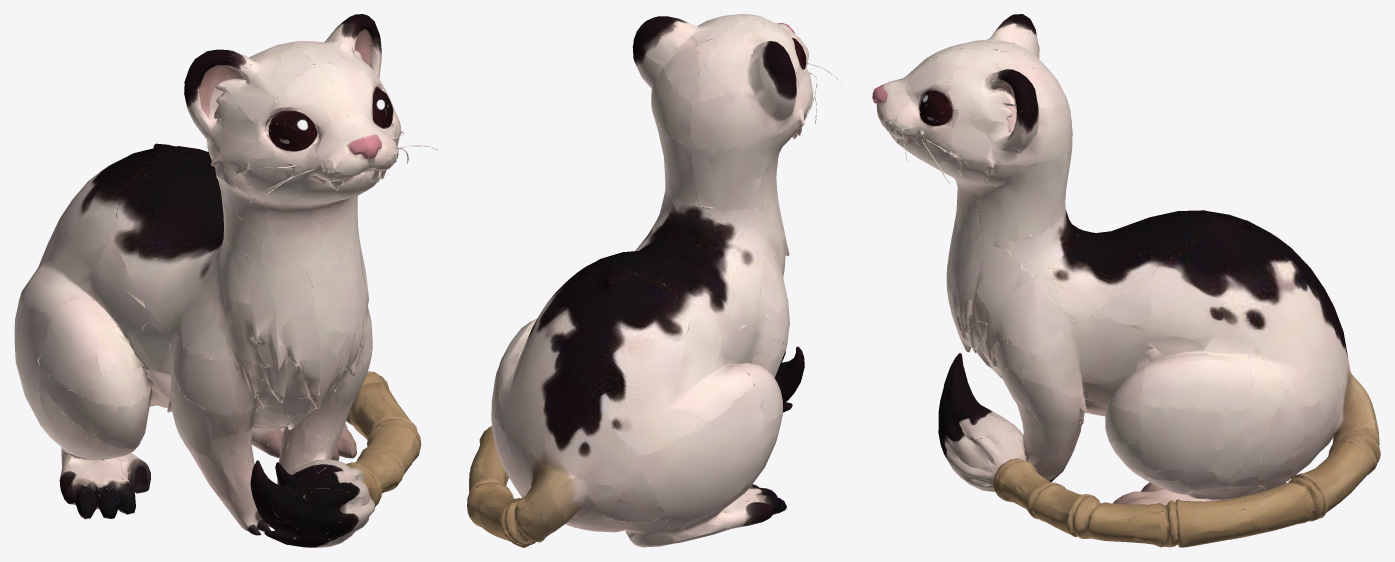
The picture shows the model from 3 angles, left to right: view 1: azimuth 30°, elevation 25°; view 2: azimuth 150°, elevation 25°; view 3: azimuth 270°, elevation 25°; orthographic projection. The views are drawn at different scales.
Parts seen in each view (by area): view 1: Mesh_0; view 2: Mesh_0; view 3: Mesh_0.
Part boxes in pixels (bbox=[...]): Mesh_0: bbox=[14, 14, 437, 547]; Mesh_0: bbox=[467, 14, 843, 547]; Mesh_0: bbox=[872, 14, 1380, 547].
Size of the model in its own units: 1.28 by 1.77 by 1.9.
Materials: 1 (1 with a texture image).
